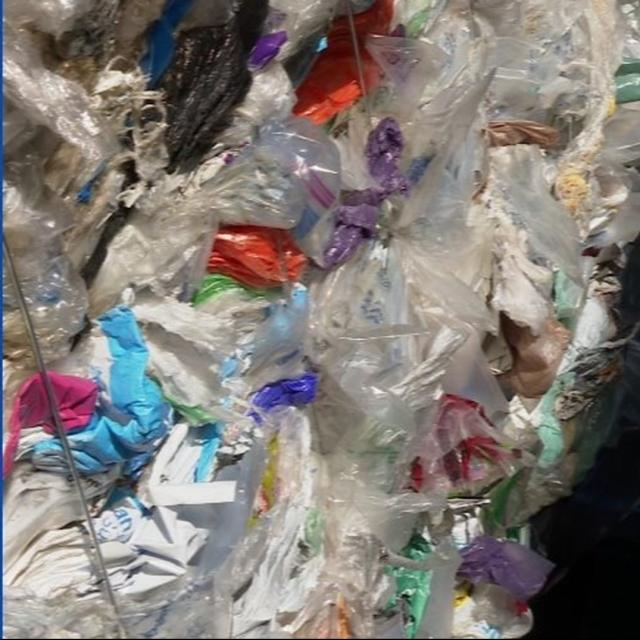Single-layer Plastic: (310, 238, 468, 453), (366, 30, 494, 252), (472, 0, 622, 145), (2, 159, 88, 365), (4, 25, 120, 173)
